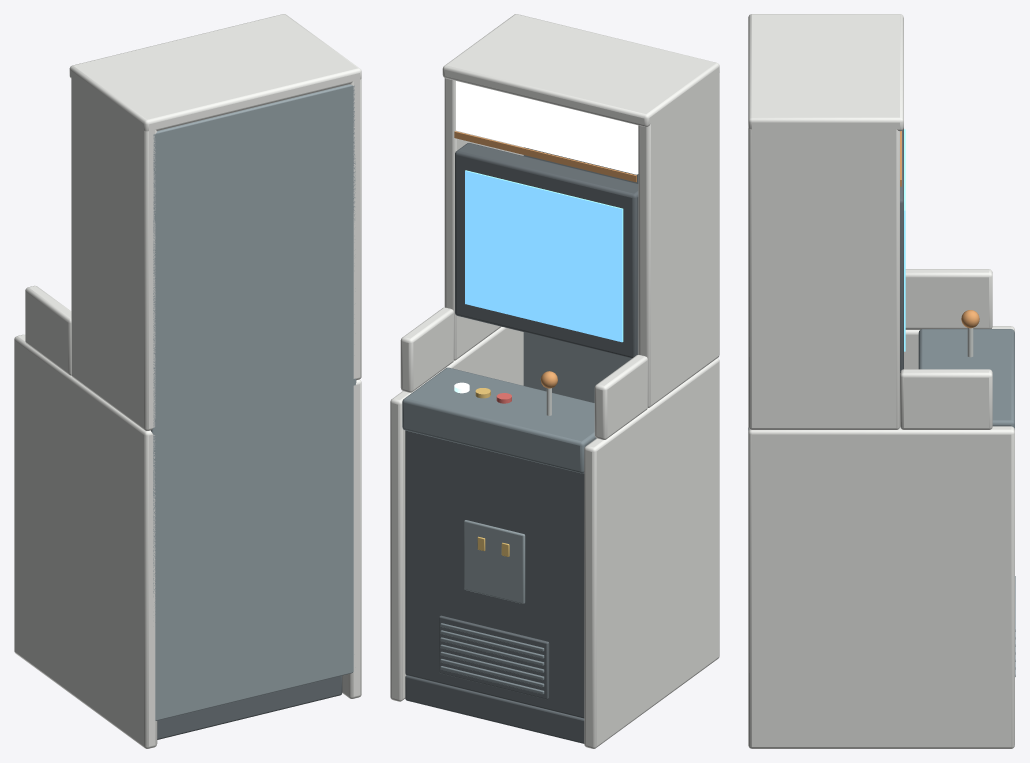
The model's file is arcade_cabinet.glb.
The picture shows the model from 3 angles, left to right: view 1: azimuth 30°, elevation 25°; view 2: azimuth 150°, elevation 25°; view 3: azimuth 270°, elevation 25°; orthographic projection. The views are drawn at different scales.
Visible parts, largest first — view 1: back_slate_panel, side_l_white_painted, top_white_painted, side_r_white_painted, plinth_graphite; view 2: side_l_white_painted, lower_front_graphite, arcade_screen_screen_arcade, top_white_painted, side_r_white_painted, control_panel_dark_alloy, screen_bezel_graphite, marquee_marquee_lamp, vent_dark_alloy, back_slate_panel, plinth_graphite, coin_door_slate_panel (+1 smaller); view 3: side_r_white_painted, top_white_painted, side_l_white_painted, control_panel_dark_alloy, screen_bezel_graphite.
Part boxes in pixels (left/top/right/bottom): back_slate_panel: left=151, top=84, right=356, bottom=720; side_l_white_painted: left=14, top=78, right=157, bottom=748; top_white_painted: left=69, top=14, right=361, bottom=131; side_r_white_painted: left=342, top=79, right=361, bottom=698; plinth_graphite: left=157, top=676, right=342, bottom=739; side_l_white_painted: left=584, top=73, right=719, bottom=748; lower_front_graphite: left=405, top=430, right=584, bottom=718; arcade_screen_screen_arcade: left=465, top=170, right=623, bottom=342; top_white_painted: left=442, top=14, right=719, bottom=126; side_r_white_painted: left=390, top=78, right=523, bottom=701; control_panel_dark_alloy: left=402, top=367, right=596, bottom=473; screen_bezel_graphite: left=455, top=143, right=638, bottom=358; marquee_marquee_lamp: left=456, top=81, right=638, bottom=174; vent_dark_alloy: left=439, top=615, right=549, bottom=699; back_slate_panel: left=523, top=147, right=638, bottom=402; plinth_graphite: left=405, top=675, right=584, bottom=743; coin_door_slate_panel: left=464, top=520, right=525, bottom=603; side_r_white_painted: left=748, top=128, right=1014, bottom=748; top_white_painted: left=748, top=14, right=903, bottom=131; side_l_white_painted: left=904, top=269, right=1014, bottom=369; control_panel_dark_alloy: left=918, top=329, right=1014, bottom=429; screen_bezel_graphite: left=900, top=128, right=903, bottom=372.
Bounding box in the file's own units: 0.68 × 1.88 × 0.722.
